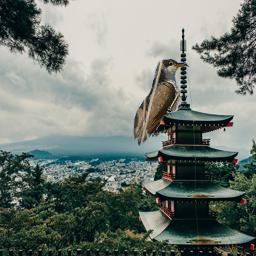Cuckoo: (133, 59, 202, 146)
